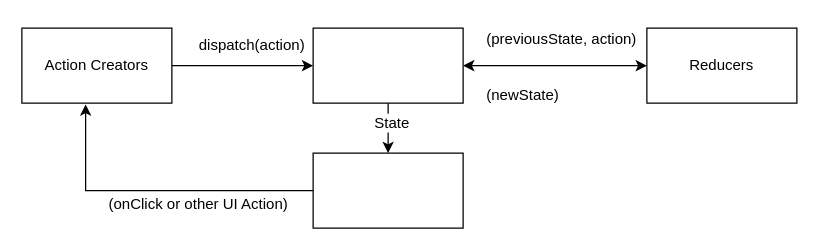
Some shapes in this 819 by 250 pixel diagram are drawn without their labels. Here are the shapes that lost their labels. From the top down, the centre of each, then its label:
pixel 387 65: Store
pixel 387 190: Client Component
